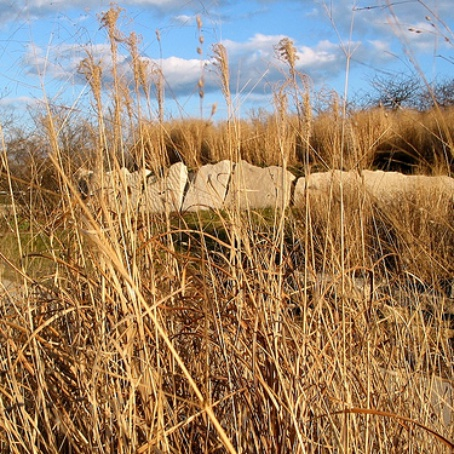sky: (1, 1, 454, 103)
vegetation: (1, 132, 454, 454)
